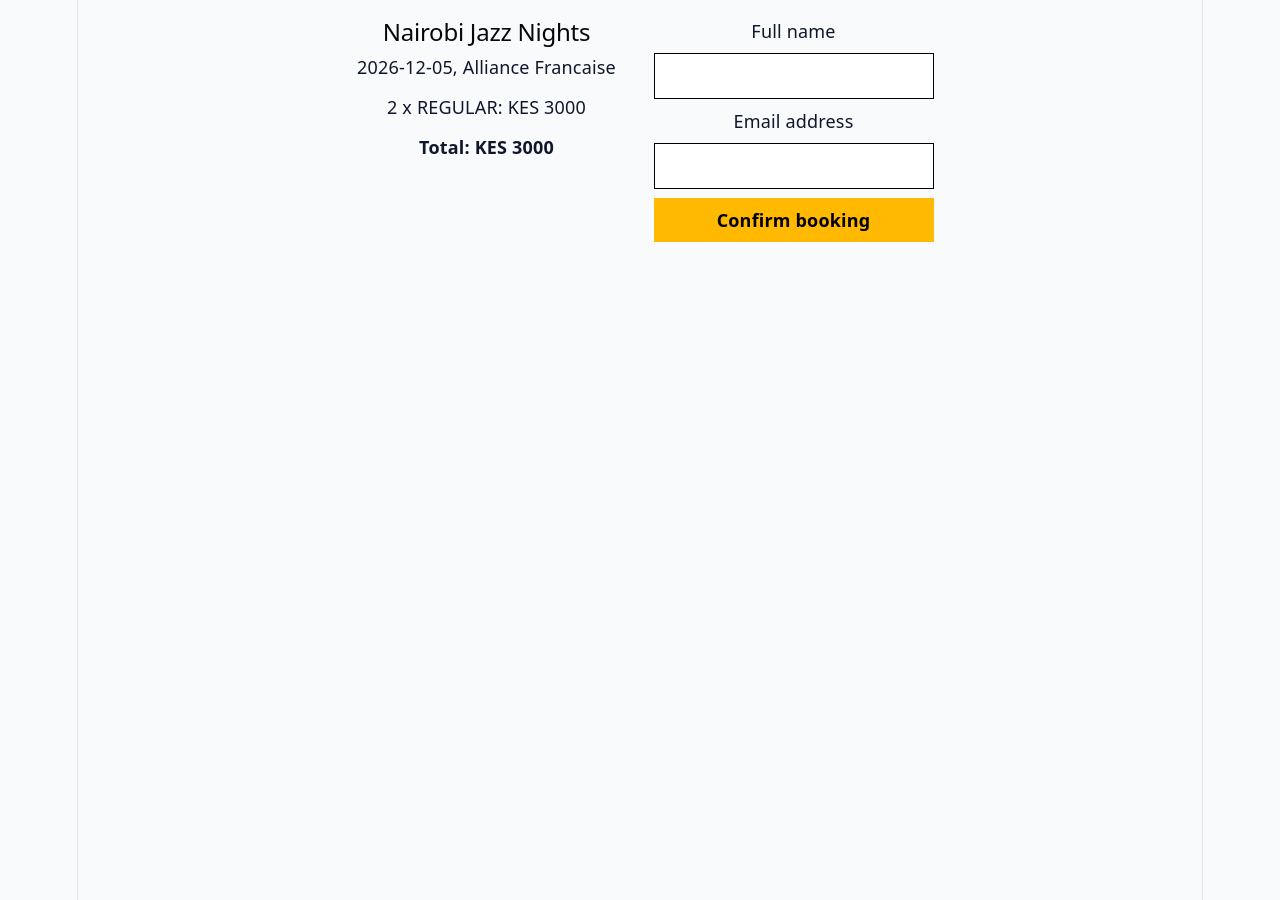
Test: shows an error when the form is empty
The image size is (1280, 900).
Click the button "Confirm booking". click: (794, 220)
box: [654,198,934,242]
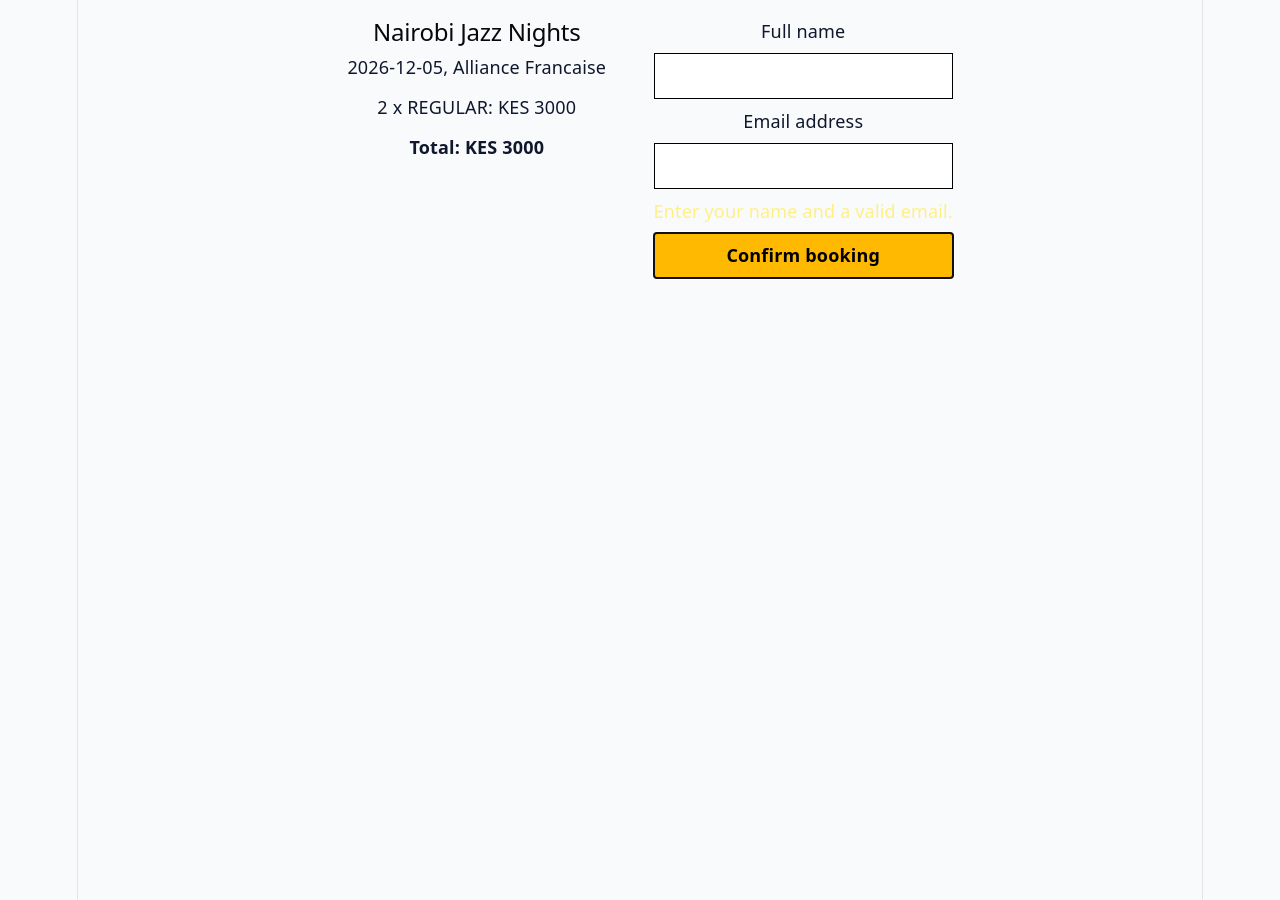
Expected: the message "Enter your name and a valid email." is shown, [654,198,953,224]
